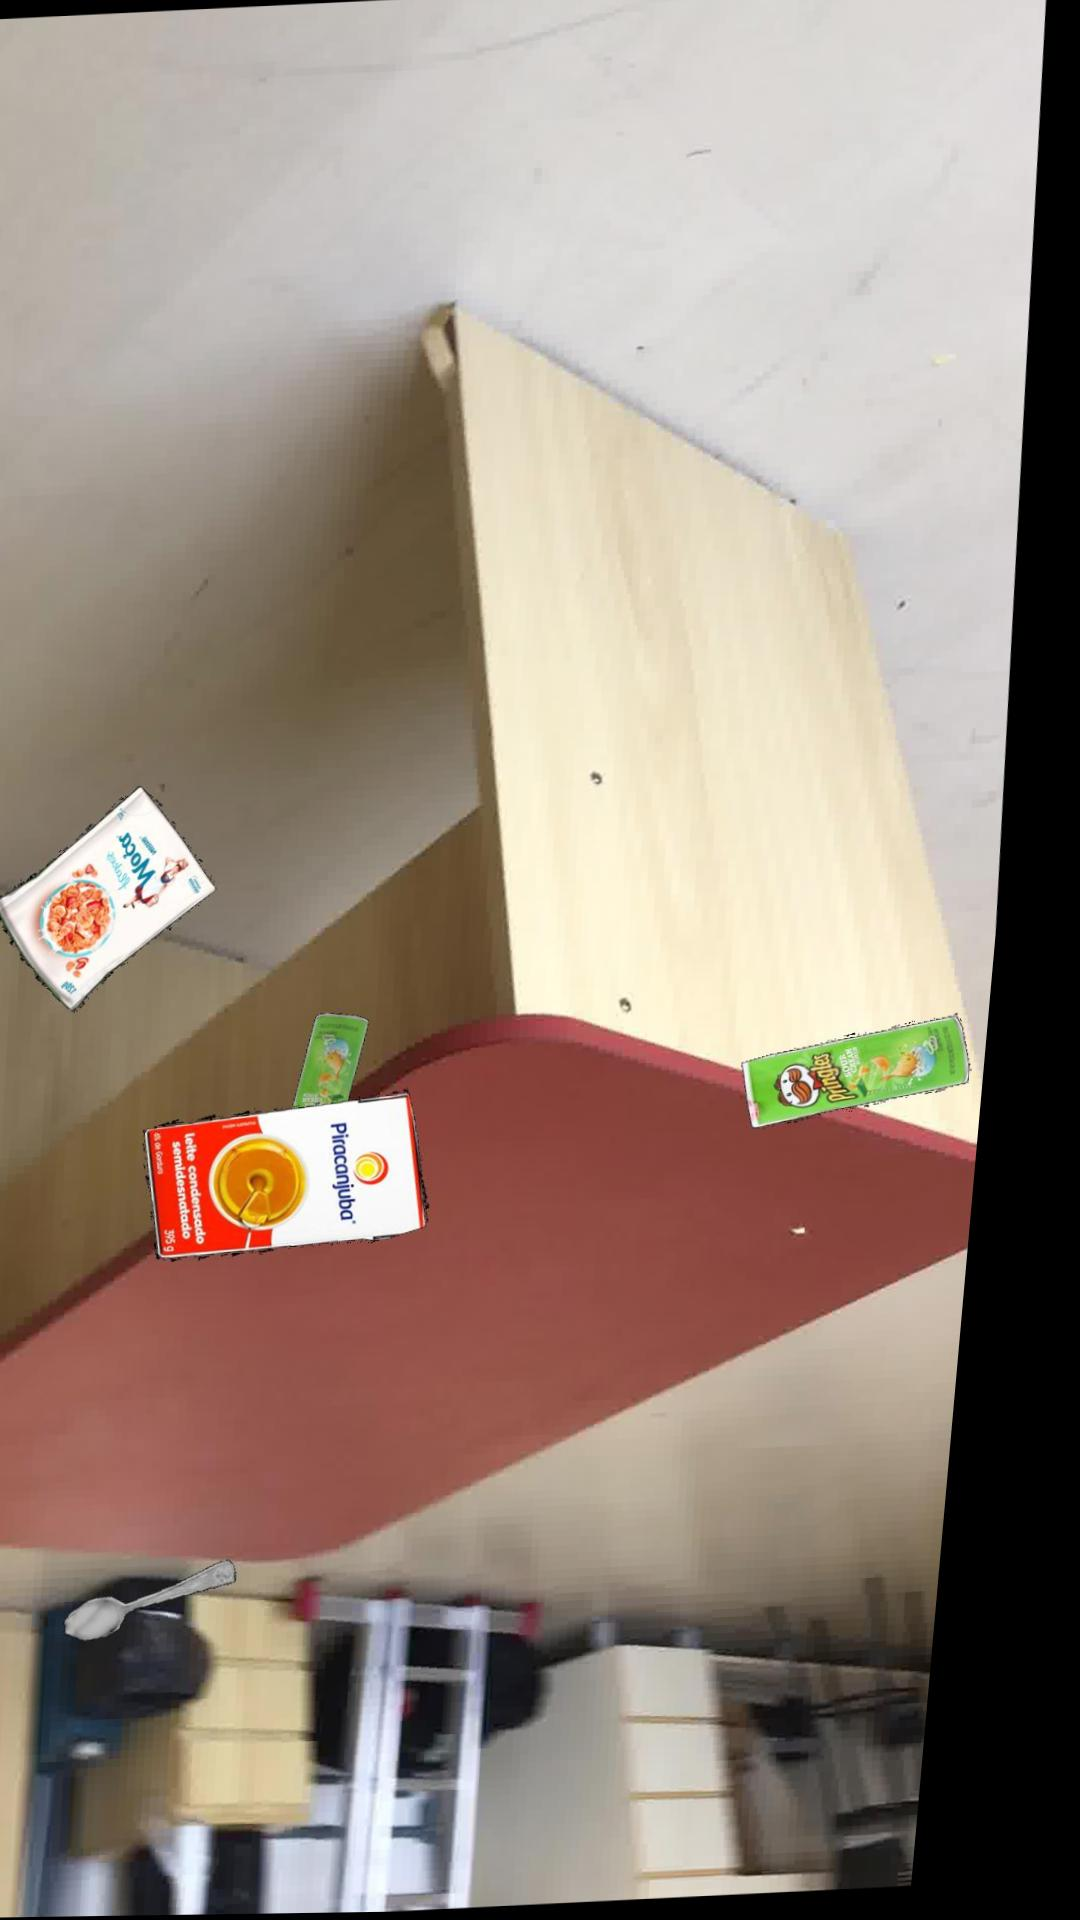corn flakes: (13, 787, 233, 1014)
pringles: (762, 1019, 992, 1131), (314, 1014, 389, 1110)
spoon: (95, 1561, 266, 1642)
